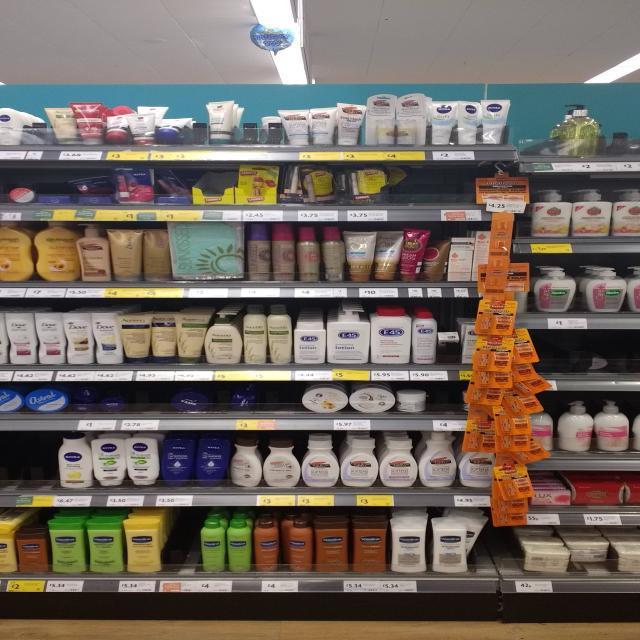void: (4, 437, 50, 491), (408, 166, 468, 205), (520, 99, 558, 158), (608, 100, 640, 155), (172, 521, 196, 572), (266, 386, 296, 414), (135, 388, 165, 414)
